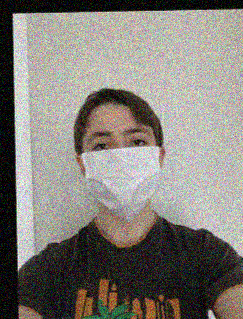with_mask: (79, 119, 163, 223)
